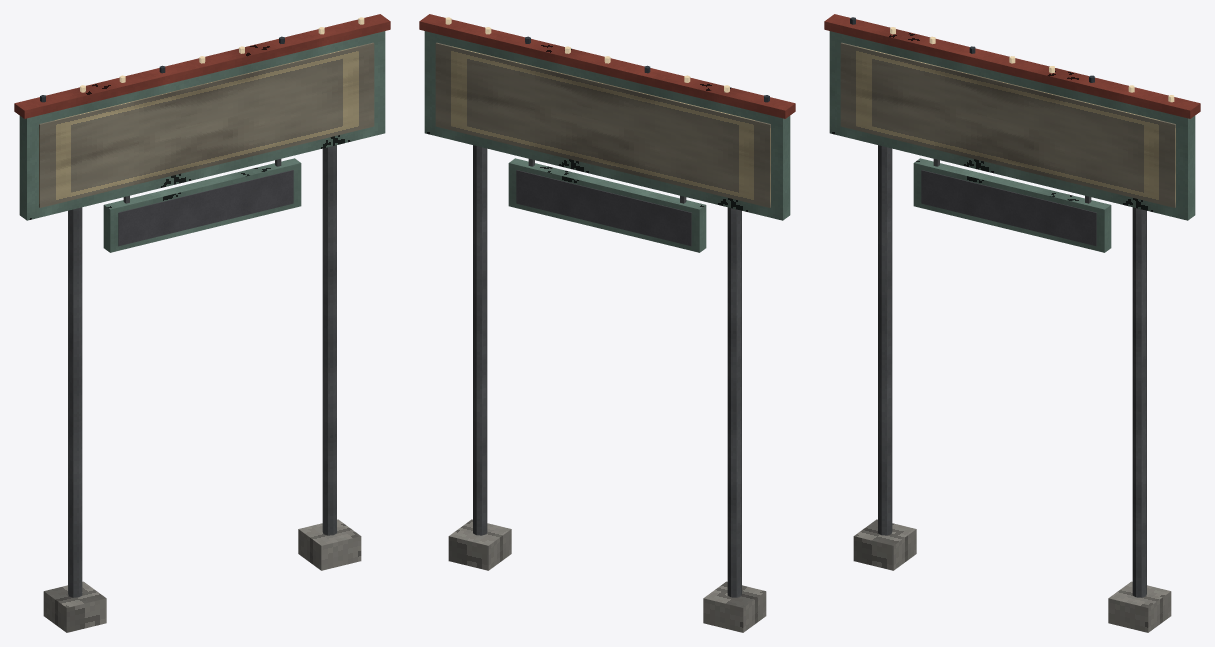
Rendered from motel_sign.glb.
3 renders of one model, left to right at view 1: azimuth 30°, elevation 25°; view 2: azimuth 150°, elevation 25°; view 3: azimuth 330°, elevation 25°, orthographic.
Visible parts, largest first — view 1: detail, posts-col; view 2: detail, posts-col; view 3: detail, posts-col.
Part boxes in pixels (x1=…): detail: x1=14, y1=14, x2=390, y2=632; posts-col: x1=68, y1=145, x2=336, y2=597; detail: x1=419, y1=14, x2=795, y2=632; posts-col: x1=473, y1=145, x2=741, y2=597; detail: x1=824, y1=14, x2=1200, y2=632; posts-col: x1=878, y1=145, x2=1146, y2=597.
Size of the model in its own units: 4.6 by 6.38 by 0.5.
Materials: 8 (8 with a texture image).
